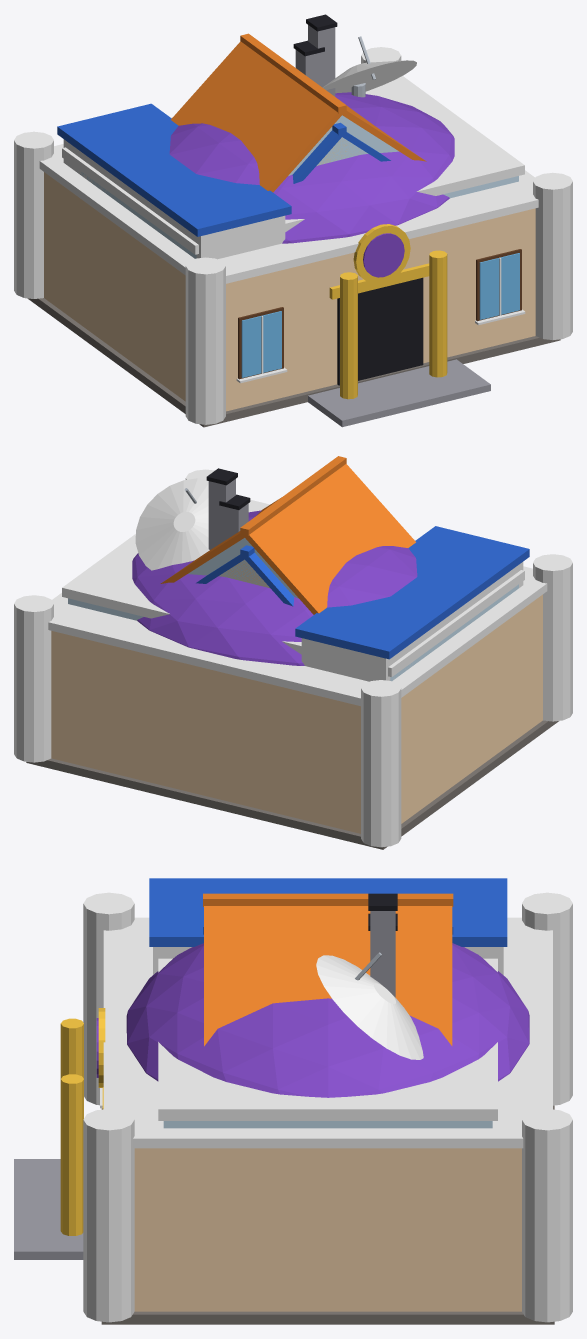
The model's file is toon_town.glb.
3 renders of one model, top to bottom at view 1: azimuth 30°, elevation 25°; view 2: azimuth 150°, elevation 25°; view 3: azimuth 270°, elevation 25°, orthographic. The views are drawn at different scales.
Parts seen in each view (by area): view 1: TT_Gym, TT_Lab, TT_House_L_orange, TT_House_M_blue; view 2: TT_Gym, TT_Lab, TT_House_L_orange, TT_House_M_blue; view 3: TT_Gym, TT_Lab, TT_House_L_orange.
Part boxes in pixels (<box>): TT_Gym: <box>14,47,572,427</box>; TT_Lab: <box>57,36,524,259</box>; TT_House_L_orange: <box>171,14,426,192</box>; TT_House_M_blue: <box>292,40,390,183</box>; TT_Gym: <box>14,469,572,849</box>; TT_Lab: <box>62,478,529,681</box>; TT_House_L_orange: <box>160,456,415,614</box>; TT_House_M_blue: <box>196,494,294,606</box>; TT_Gym: <box>14,892,572,1324</box>; TT_Lab: <box>149,878,507,1128</box>; TT_House_L_orange: <box>203,893,453,1046</box>.
Size of the model in its own units: 15.4 by 10.51 by 15.3.
Materials: 1 (1 with a texture image).
